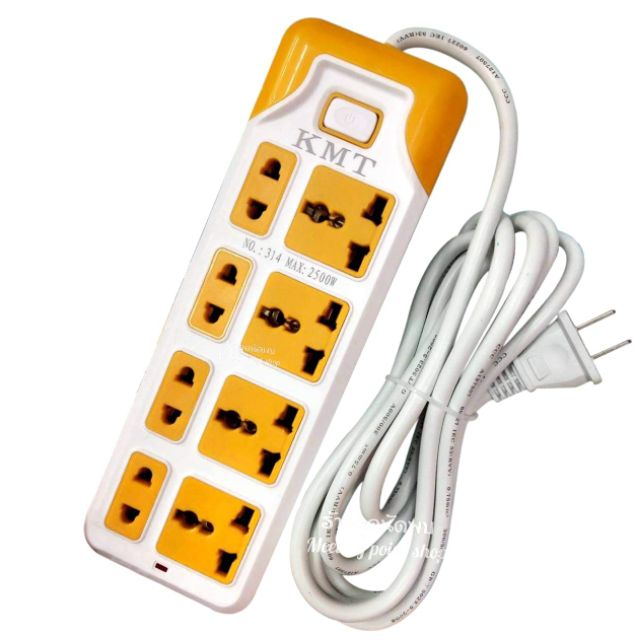Three_eye_plug: (79, 10, 478, 619)
